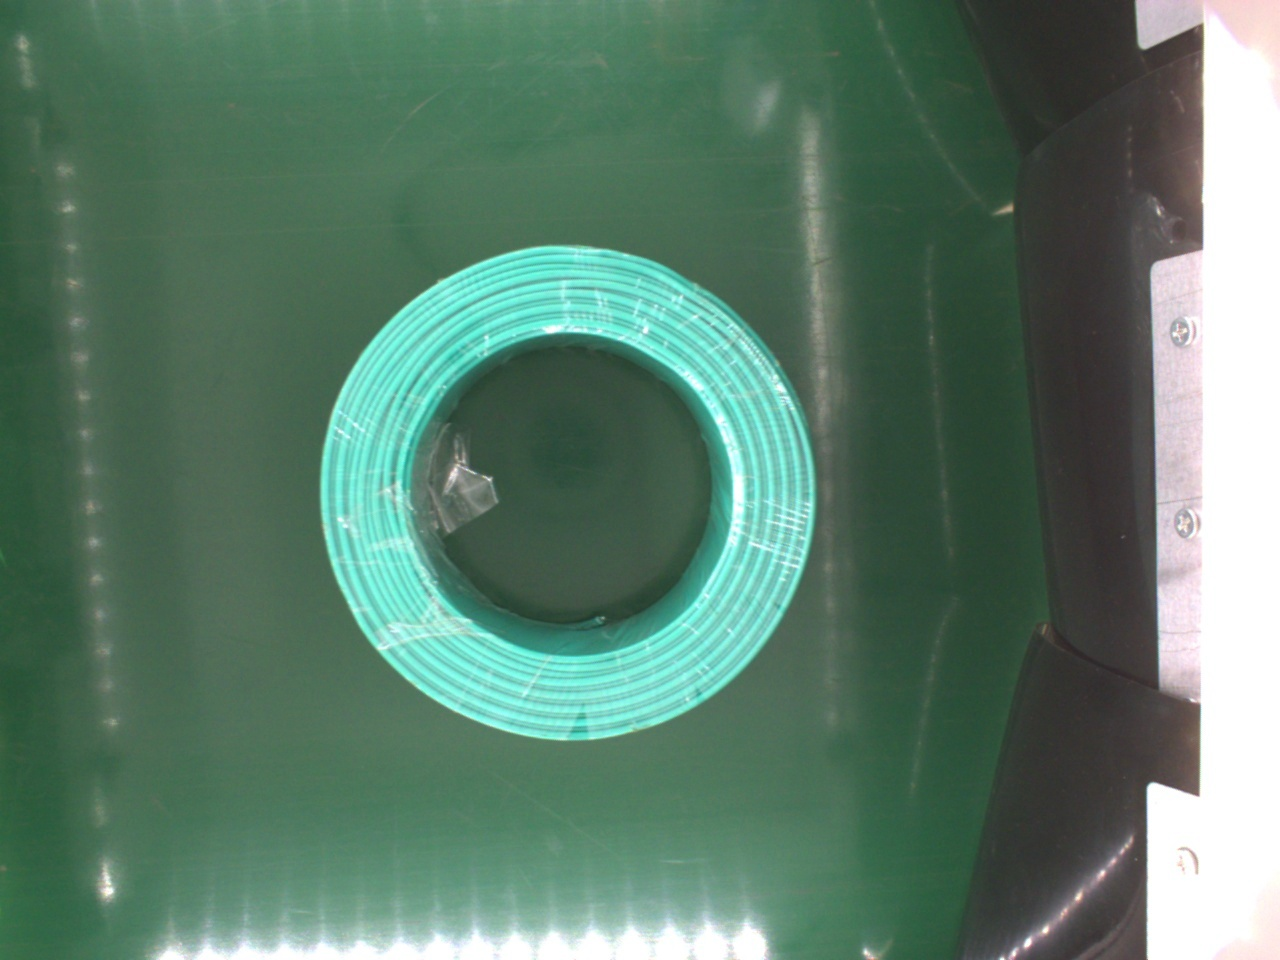green: (314, 239, 816, 745)
